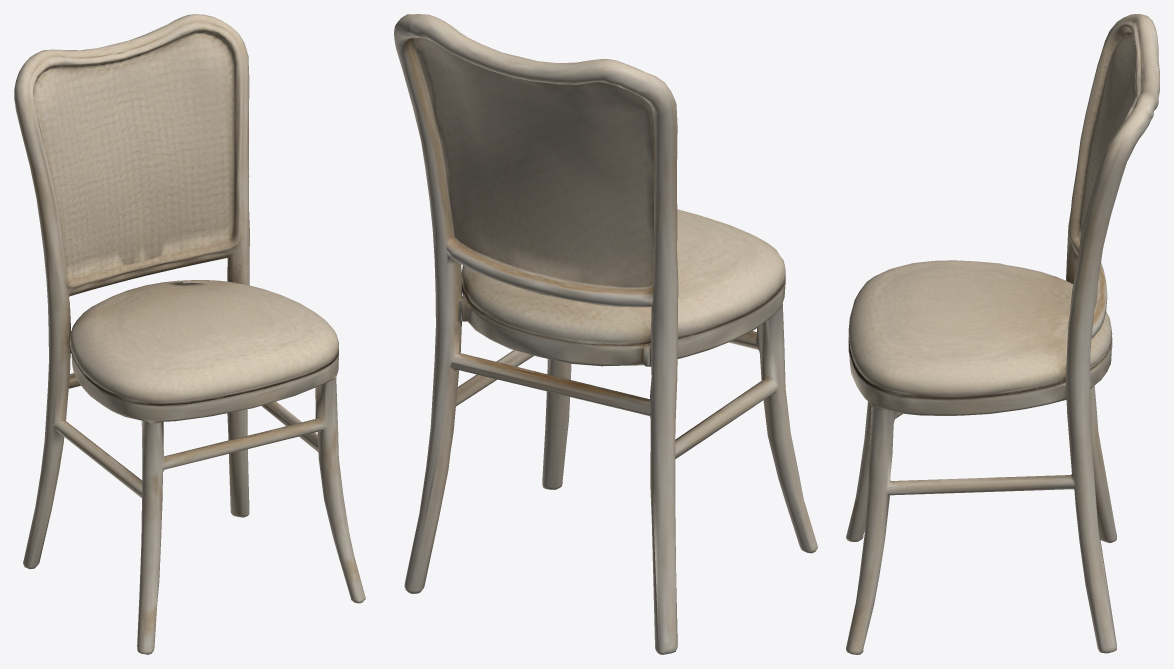
File: Saskia_Beech_Chair_35InchesTall_0208185047_texture.glb
3 views of the same model, side by side, from view 1: azimuth 30°, elevation 25°; view 2: azimuth 150°, elevation 25°; view 3: azimuth 270°, elevation 25° (orthographic). The views are drawn at different scales.
Visible parts, largest first — view 1: Mesh_0; view 2: Mesh_0; view 3: Mesh_0.
Part boxes in pixels (bbox=[...]): Mesh_0: bbox=[14, 14, 365, 654]; Mesh_0: bbox=[394, 14, 817, 654]; Mesh_0: bbox=[846, 14, 1159, 654].
Bounding box in the file's own units: 0.429 × 0.889 × 0.4691.
Materials: 1 (1 with a texture image).
